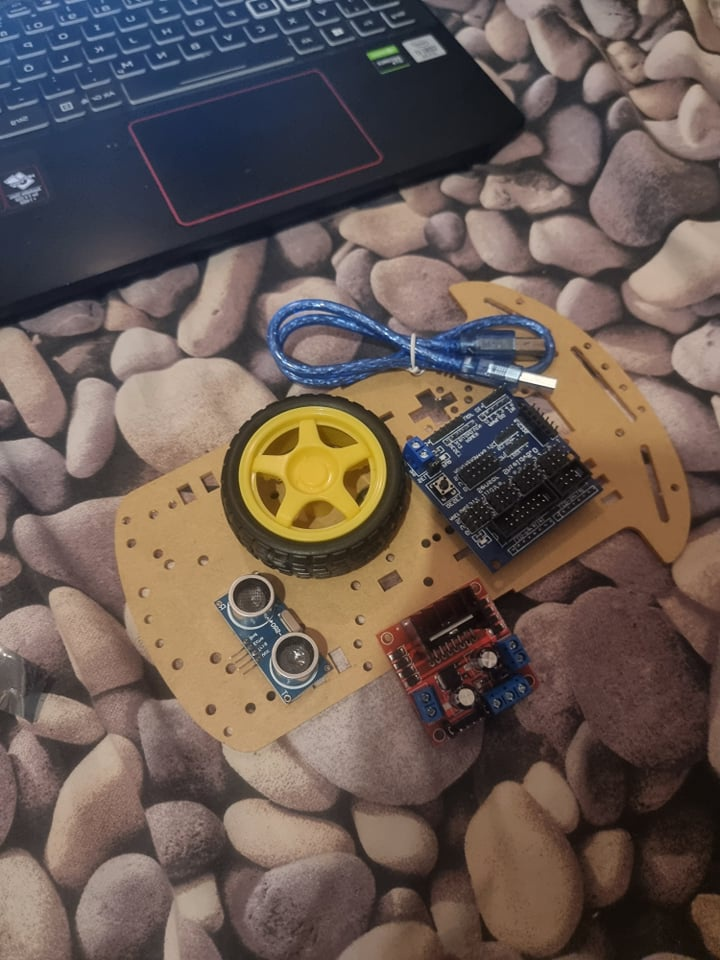5V EXPANSION: (407, 395, 600, 576)
MOTOR: (379, 581, 541, 749)
SENSOR: (221, 573, 330, 700)
